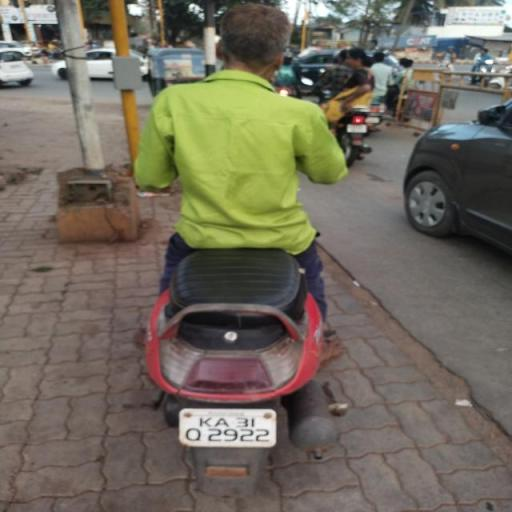bike: (116, 0, 362, 512)
numberplate: (182, 408, 278, 448)
withouthelmet: (214, 5, 288, 77)
